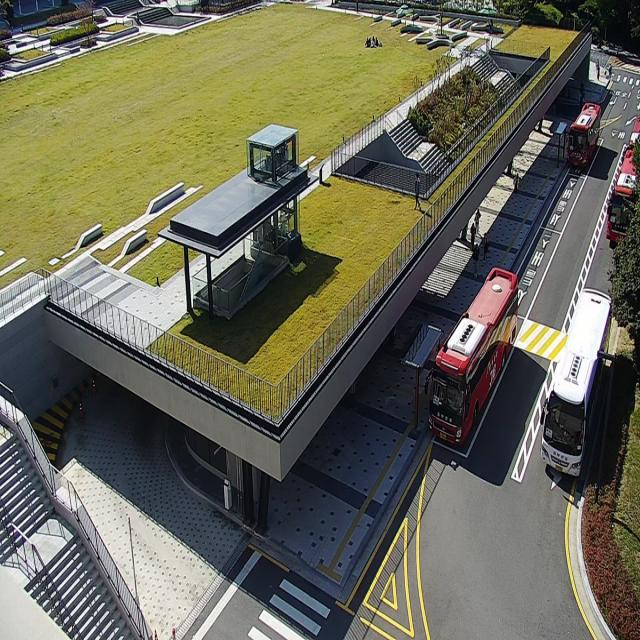queue: (415, 330, 441, 434)
